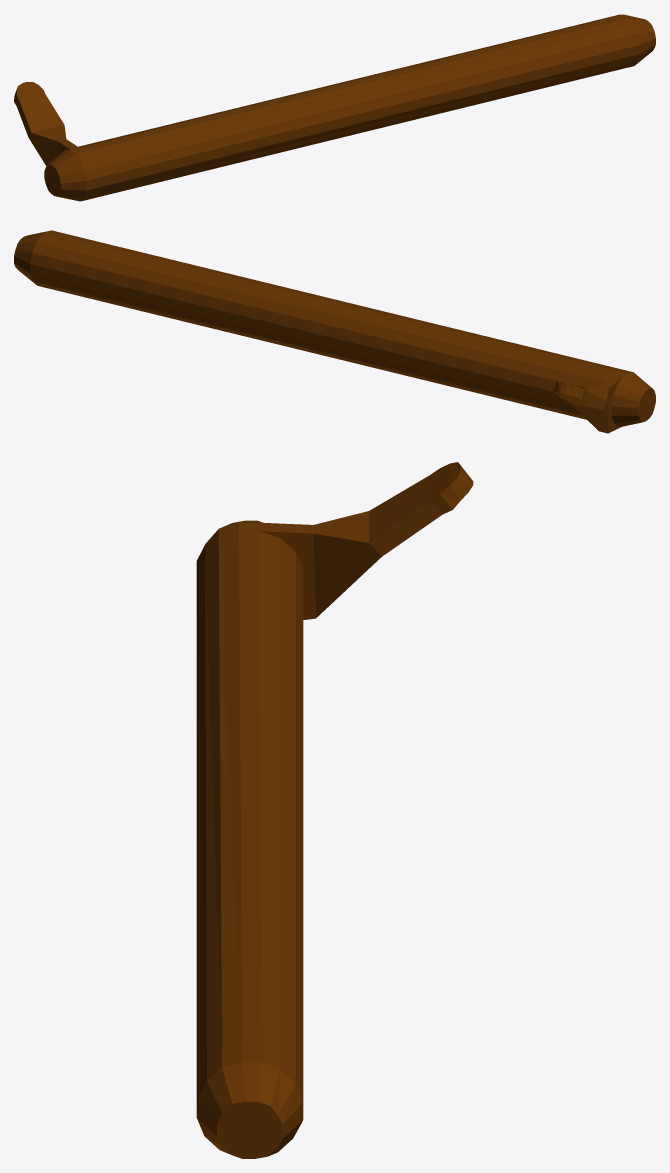
Rendered from original-25.obj.
3 renders of one model, top to bottom at view 1: azimuth 30°, elevation 25°; view 2: azimuth 150°, elevation 25°; view 3: azimuth 270°, elevation 25°, orthographic. The views are drawn at different scales.
Visible parts, largest first — view 1: mesh23/mesh23-geometry#mesh23-geometry; view 2: mesh23/mesh23-geometry#mesh23-geometry; view 3: mesh23/mesh23-geometry#mesh23-geometry.
Boxes of the visible parts, box(x1,y1,x2,y2) form: mesh23/mesh23-geometry#mesh23-geometry: box(14, 14, 655, 201); mesh23/mesh23-geometry#mesh23-geometry: box(14, 230, 655, 433); mesh23/mesh23-geometry#mesh23-geometry: box(196, 462, 473, 1158).
Bounding box in the file's own units: 0.7151 × 0.0884 × 0.1438.
